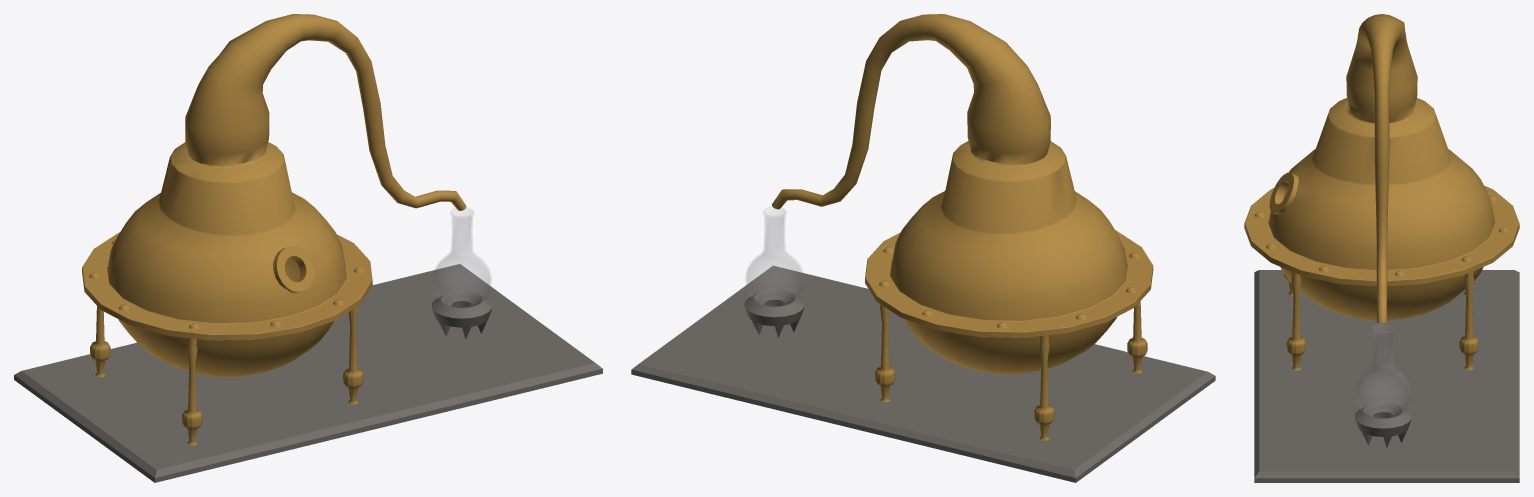
File: still.fbx
The picture shows the model from 3 angles, left to right: view 1: azimuth 30°, elevation 25°; view 2: azimuth 150°, elevation 25°; view 3: azimuth 270°, elevation 25°; orthographic projection. The views are drawn at different scales.
Visible parts, largest first — view 1: still, baseq, flask, flaskBase, portal, leg3, leg1, leg4; view 2: still, baseq, flask, flaskBase, leg4, leg2, leg3; view 3: baseq, still, flask, flaskBase, leg1, leg2, portal.
Part boxes in pixels (box(x1,y1,x2,y2)): still: box(82, 14, 466, 377); baseq: box(14, 264, 602, 482); flask: box(433, 208, 491, 307); flaskBase: box(432, 290, 492, 339); portal: box(273, 246, 314, 293); leg3: box(182, 338, 202, 445); leg1: box(343, 306, 363, 404); leg4: box(90, 306, 110, 377); still: box(772, 14, 1153, 374); baseq: box(631, 265, 1215, 482); flask: box(745, 207, 803, 306); flaskBase: box(744, 289, 804, 337); leg4: box(1034, 335, 1054, 440); leg2: box(875, 304, 895, 402); leg3: box(1127, 301, 1147, 373); baseq: box(1254, 270, 1519, 482); still: box(1244, 14, 1519, 322); flask: box(1355, 324, 1410, 418); flaskBase: box(1355, 402, 1411, 447); leg1: box(1286, 272, 1305, 370); leg2: box(1459, 271, 1478, 369); portal: box(1269, 172, 1298, 214).
Size of the model in its own units: 33.04 by 25.87 by 18.66.
